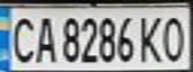2: (78, 13, 100, 64)
6: (115, 12, 139, 63)
8: (96, 13, 121, 64), (57, 12, 81, 64)
A: (30, 12, 57, 64)
C: (3, 12, 39, 64)
K: (136, 11, 166, 63)
O: (157, 11, 190, 63)
